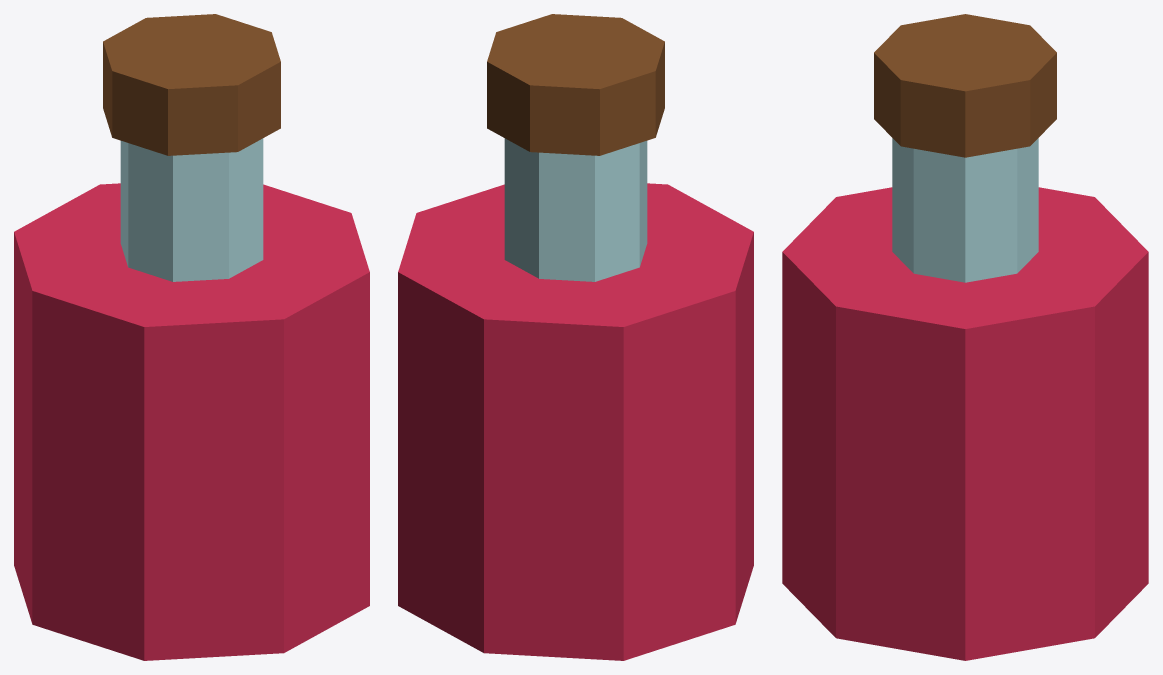
Rendered from potion_red.glb.
3 renders of one model, left to right at view 1: azimuth 30°, elevation 25°; view 2: azimuth 150°, elevation 25°; view 3: azimuth 270°, elevation 25°, orthographic.
Parts seen in each view (by area): view 1: potion_red; view 2: potion_red; view 3: potion_red.
Boxes of the visible parts, x1=… form: potion_red: x1=14, y1=14, x2=369, y2=660; potion_red: x1=398, y1=14, x2=753, y2=660; potion_red: x1=782, y1=14, x2=1148, y2=660.
Size of the model in its own units: 0.3 by 0.48 by 0.3.
